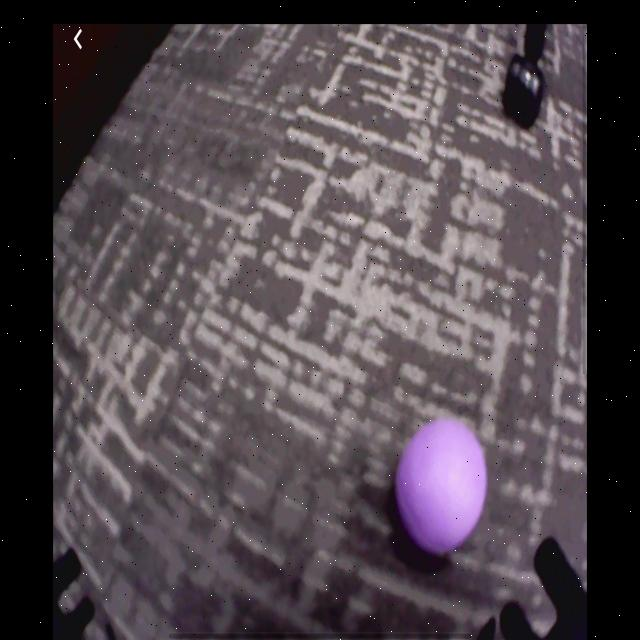ball: (396, 421, 488, 556)
